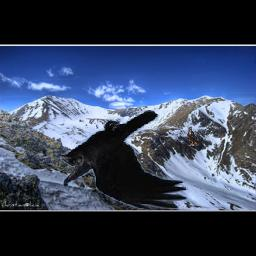Crow: (58, 111, 189, 212), (187, 126, 199, 146)
